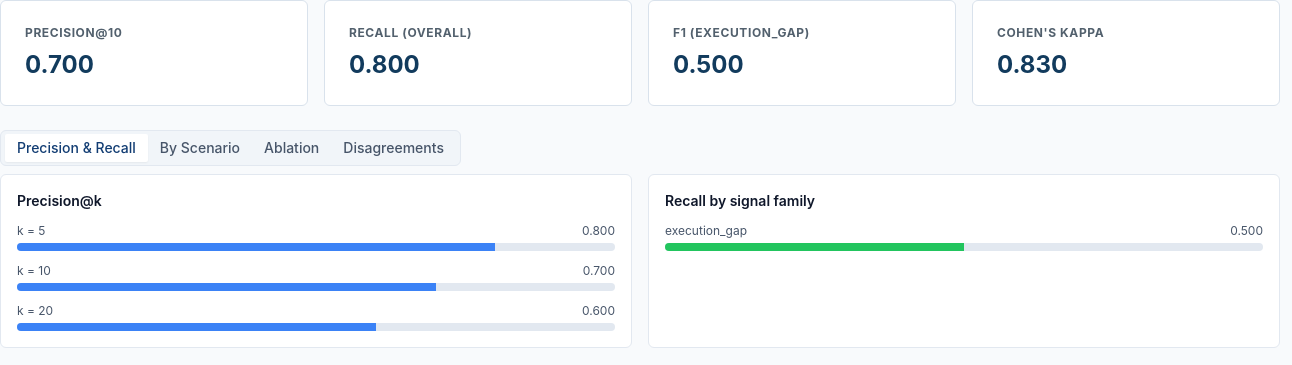
Test case: ValidationPage › disagreement export button downloads a CSV
The width and height of the screenshot is (1292, 365).
Step 1. Click the tab "Disagreements" → (394, 148), box [331,134,456,162]
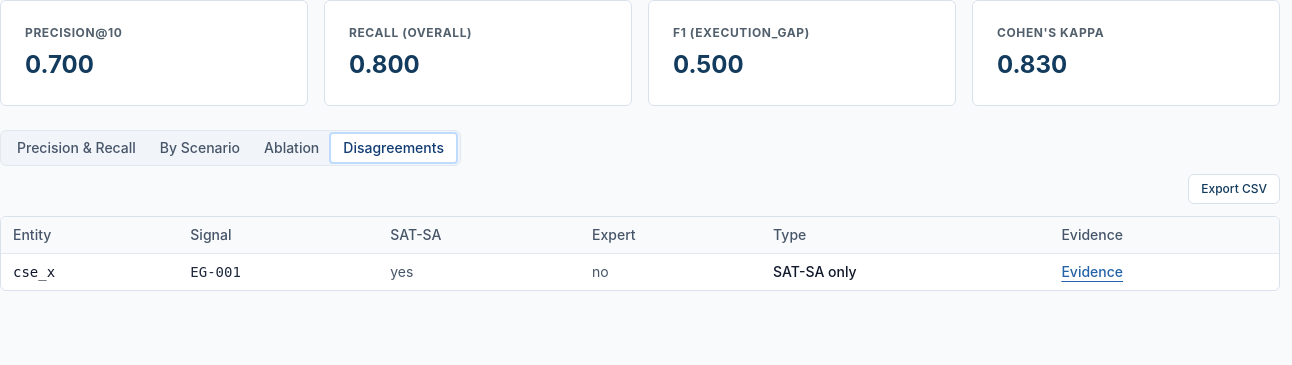
Expected: the button with aria-label "Export disagreements as CSV" is shown, [1188,174,1280,204]
Expected: the text "cse_x" is shown, [1,254,178,290]
